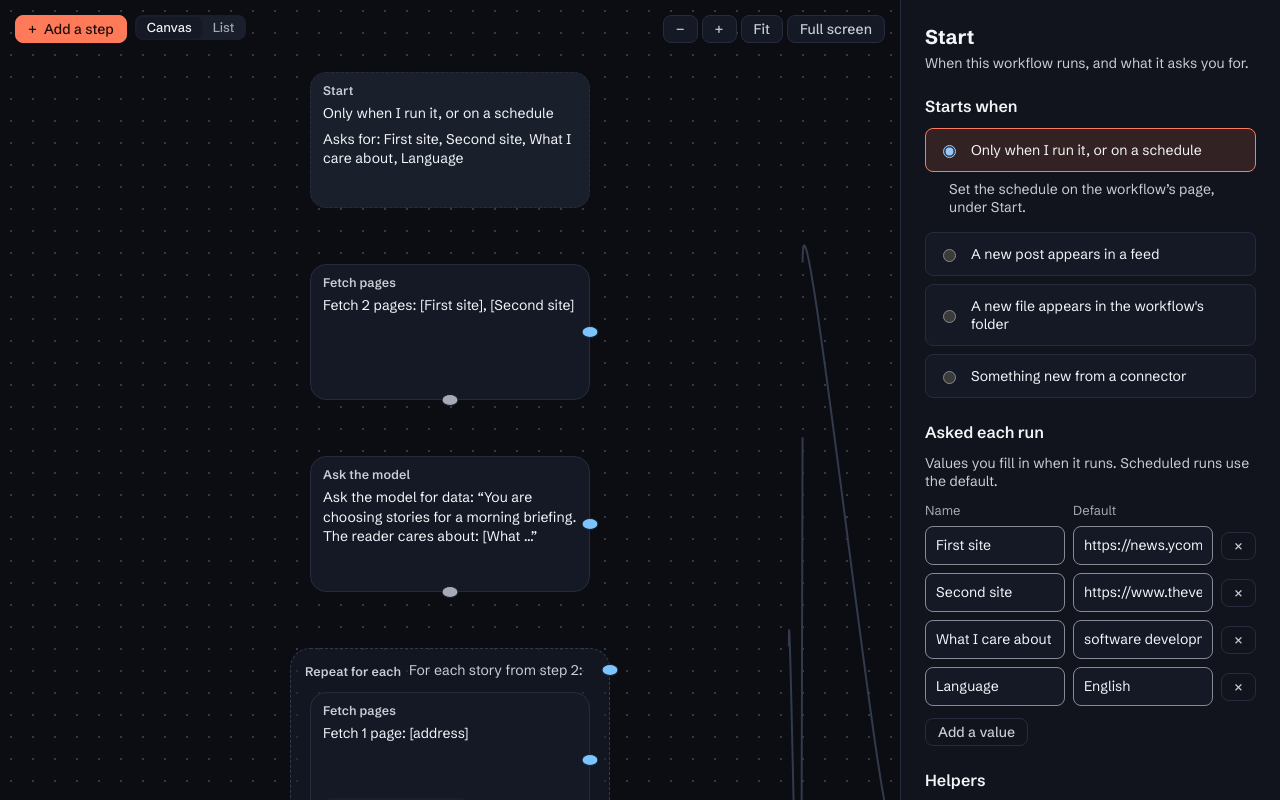
editing on the canvas › groups the steps in the Add a step menu, each kind once
Click the button "+ Add a step": (71, 29) [15,15,127,43]
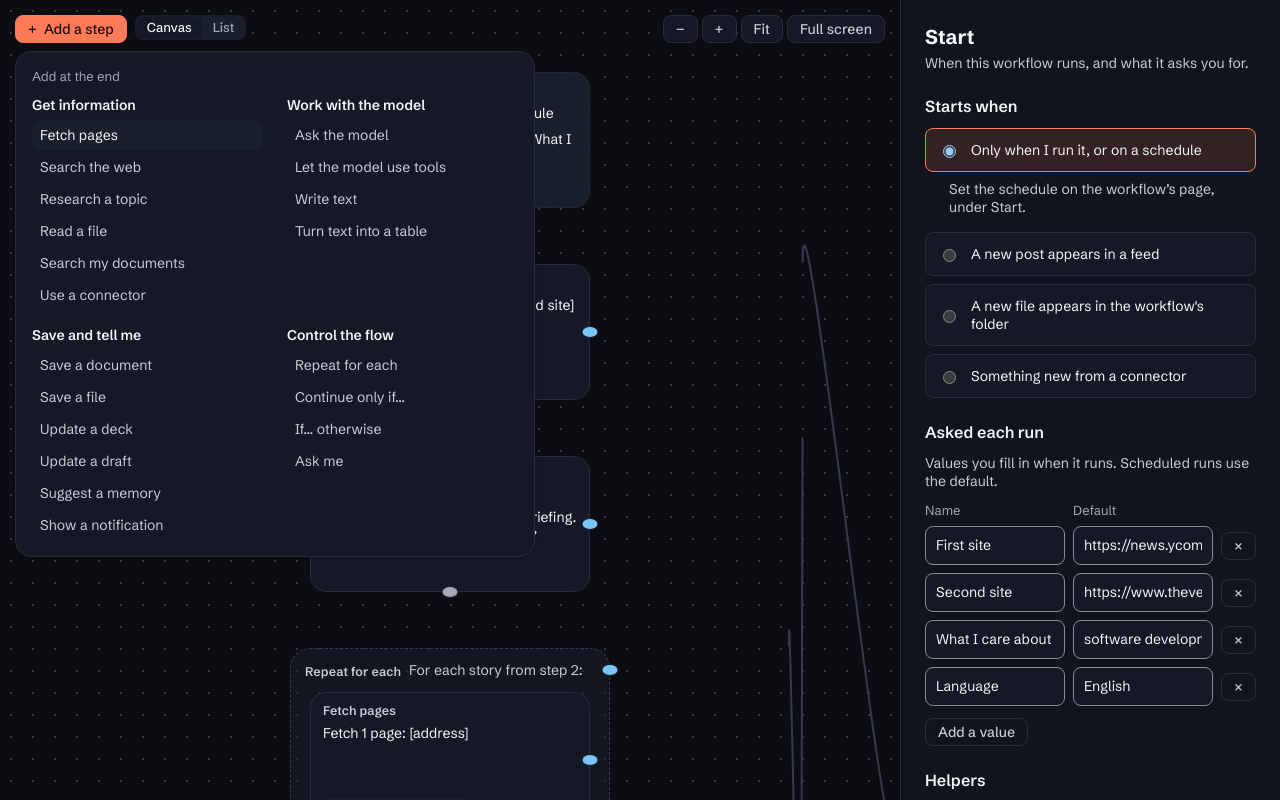
Now the text "Add at the end" is shown, box [32,68,120,84]
